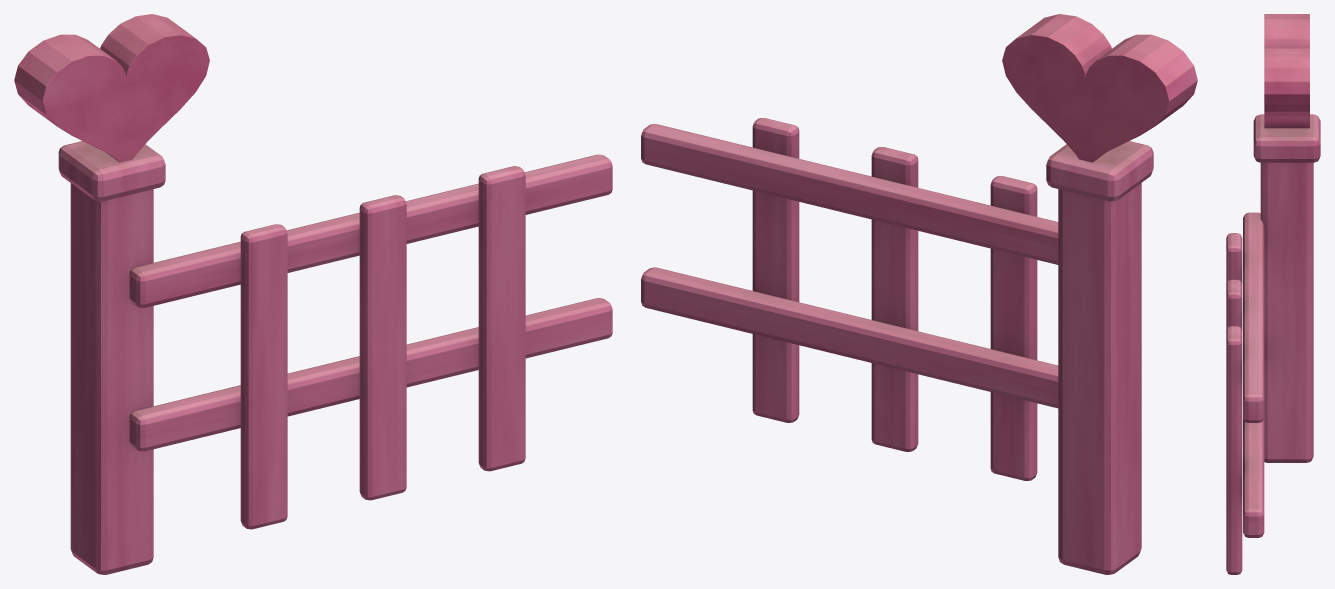
File: heart_fence.glb
3 views of the same model, side by side, from view 1: azimuth 30°, elevation 25°; view 2: azimuth 150°, elevation 25°; view 3: azimuth 270°, elevation 25° (orthographic). The views are drawn at different scales.
Parts seen in each view (by area): view 1: heart_fence; view 2: heart_fence; view 3: heart_fence.
Boxes of the visible parts, x1,y1,x2,y2 form: heart_fence: (14, 14, 612, 574); heart_fence: (641, 14, 1197, 574); heart_fence: (1226, 14, 1320, 574).
Bounding box in the file's own units: 1.47 × 1.32 × 0.2675.
Materials: 1 (1 with a texture image).
